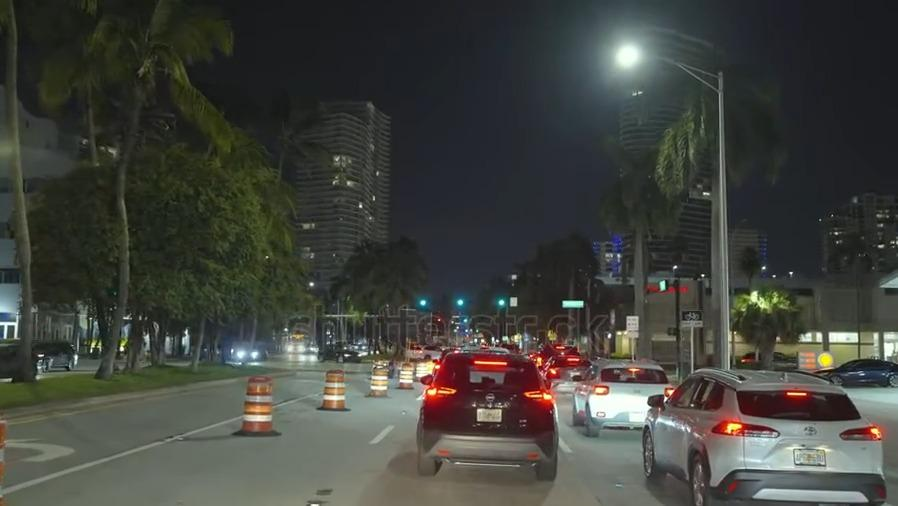car: (657, 375, 883, 505), (418, 351, 556, 472), (567, 361, 661, 435), (818, 355, 898, 387), (0, 342, 49, 376), (542, 355, 585, 387), (36, 340, 80, 370), (317, 341, 361, 365), (232, 343, 268, 363)
cone: (243, 371, 276, 437), (320, 366, 347, 409), (366, 364, 391, 396), (394, 358, 412, 391), (413, 359, 427, 375)
traffic light: (493, 290, 521, 312), (413, 295, 432, 310), (452, 296, 471, 310)
wheel: (684, 451, 712, 503), (639, 430, 658, 471)
